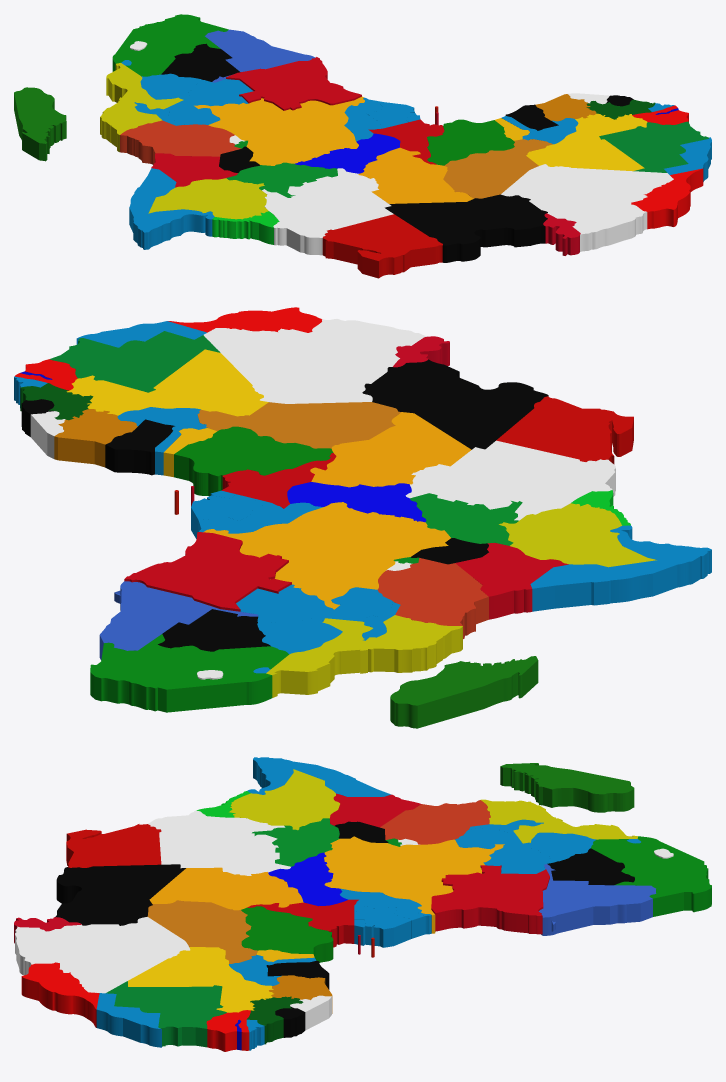
Rendered from Africa.fbx.
The picture shows the model from 3 angles, top to bottom: view 1: azimuth 30°, elevation 25°; view 2: azimuth 150°, elevation 25°; view 3: azimuth 270°, elevation 25°; orthographic projection. The views are drawn at different scales.
Visible parts, largest first — view 1: Curve.025_Madagaskar, Algerien, Egypt, SouthAfrica; view 2: Curve.025_Madagaskar, Algerien, SouthAfrica, Egypt; view 3: Curve.025_Madagaskar, Algerien, SouthAfrica, Egypt.
Part boxes in pixels (left/top/right/bottom): Curve.025_Madagaskar: left=14, top=29, right=711, bottom=262; Algerien: left=501, top=164, right=673, bottom=251; Egypt: left=322, top=214, right=442, bottom=278; SouthAfrica: left=112, top=14, right=228, bottom=76; Curve.025_Madagaskar: left=14, top=307, right=711, bottom=728; Algerien: left=203, top=319, right=427, bottom=403; SouthAfrica: left=90, top=634, right=288, bottom=712; Egypt: left=496, top=396, right=633, bottom=464; Curve.025_Madagaskar: left=14, top=757, right=673, bottom=1051; Algerien: left=15, top=917, right=190, bottom=993; SouthAfrica: left=591, top=836, right=711, bottom=916; Egypt: left=66, top=824, right=161, bottom=867.
Bounding box in the file's own units: 993 × 64.88 × 1060.
